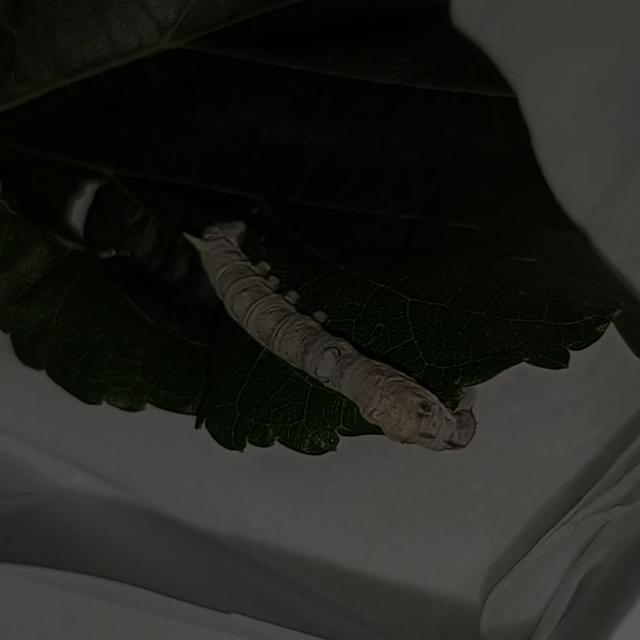Healthy: (151, 158, 508, 536)
